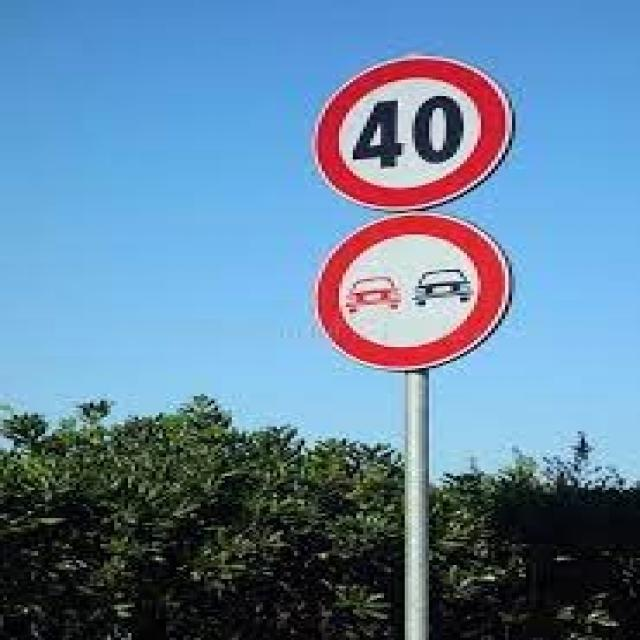no_passing: (303, 213, 527, 384)
